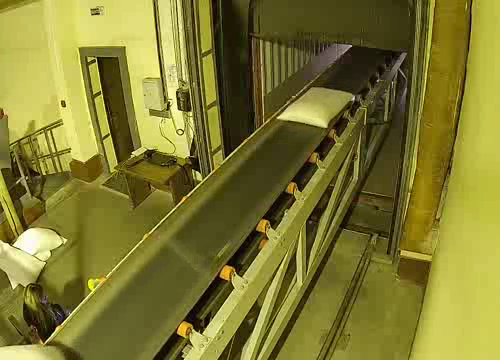bag: (275, 81, 362, 132), (0, 340, 72, 360)
